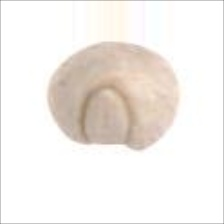L5: (78, 82, 135, 151), (87, 39, 147, 54)
L6: (45, 38, 182, 154)
